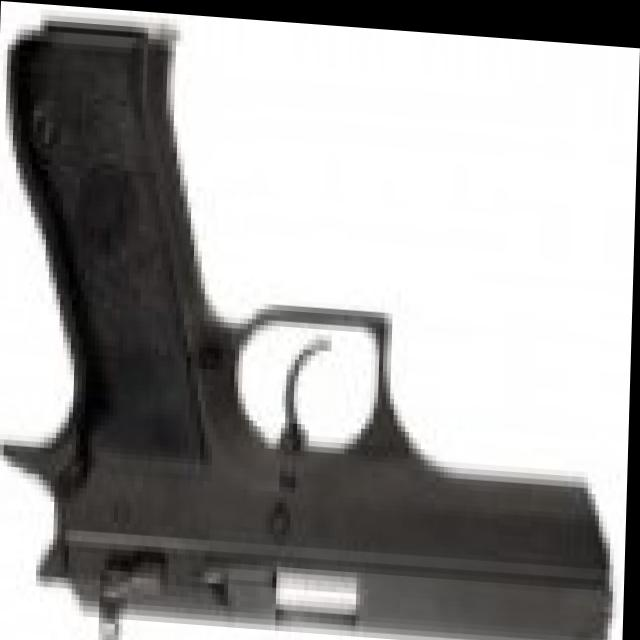handgun: (1, 22, 615, 640)
